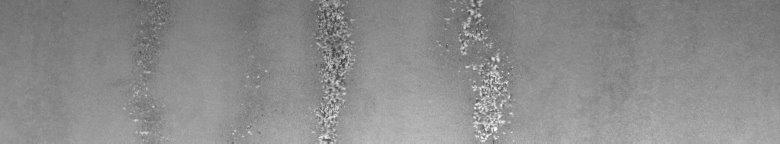hc: (232, 4, 362, 136)
